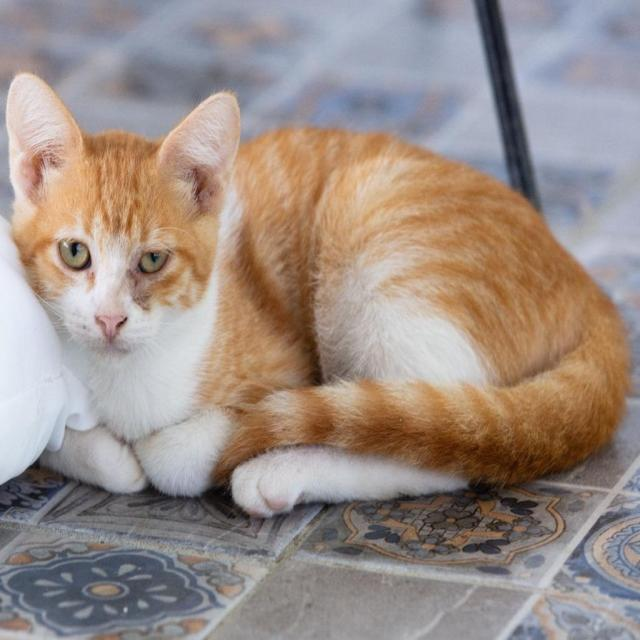american_shorthair_cat: (2, 62, 249, 368)
